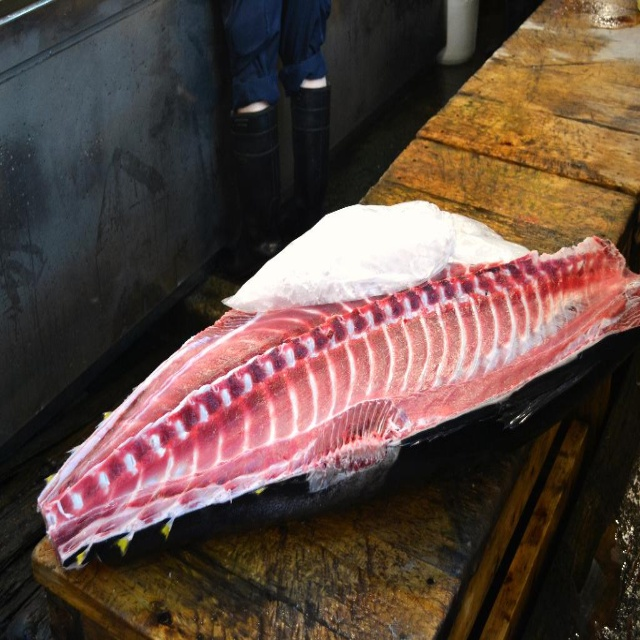Fish: (37, 235, 640, 569)
